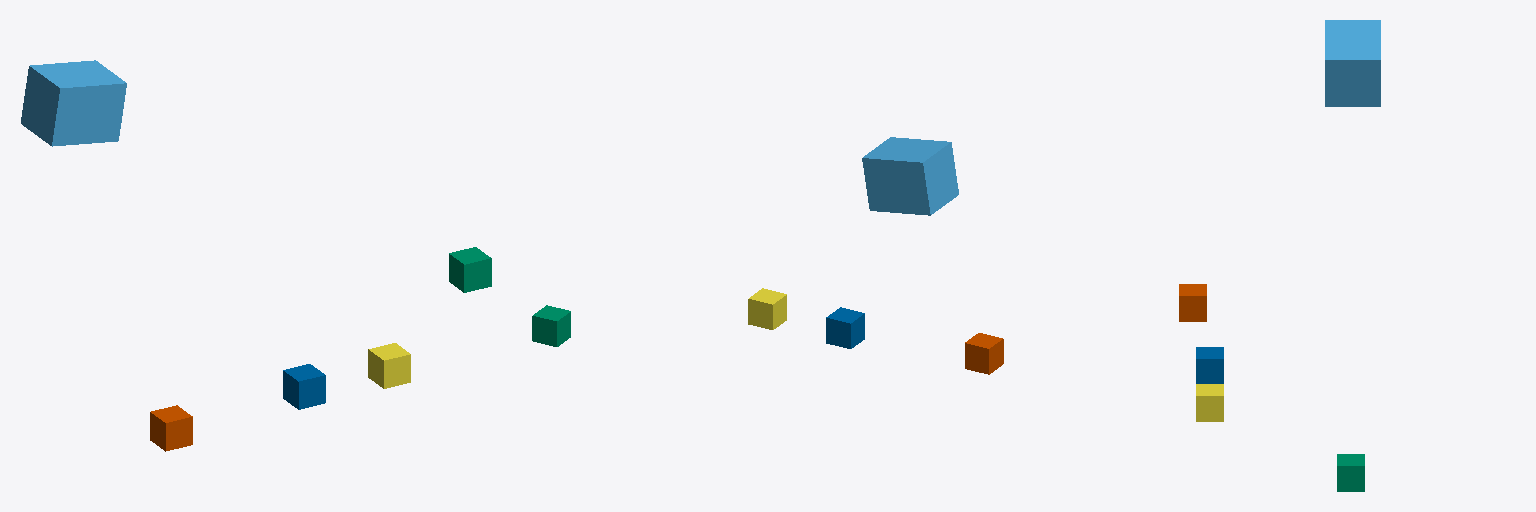
URDF robot description (dr_drift):
<?xml version="1.0" ?>
<robot name="dr_drift" version="1.0.0">
  <link name="chassis">
    <collision>
      <origin xyz="0.12 0 0.0397" rpy="0 0 0"/>
      <geometry>
        <box size="0.24 0.2207 0.0794"/>
      </geometry>
    </collision>
    <visual>
      <origin xyz="0.095 0 0.0497" rpy="0 0 0"/>
      <geometry>
        <mesh filename="file://meshes/dr_drift.stl"/>
      </geometry>
      <material name="mat">
        <color>1.0 1.0 1.0</color>
      </material>
    </visual>
    <inertial>
      <inertia ixx="0.02200514" ixy="0" ixz="0" iyx="0" iyy="0.025561743999999994" iyz="0" izx="0" izy="0" izz="0.042523396"/>
      <origin xyz="0.12 0 0.0397" rpy="0 0 0"/>
      <mass value="4.8"/>
    </inertial>
  </link>
  <link name="front_camera_link">
    <collision>
      <geometry>
        <box size="0.05 0.04 0.04"/>
      </geometry>
    </collision>
    <visual>
      <geometry>
        <box size="0.05 0.04 0.04"/>
      </geometry>
      <material name="mat">
        <color>1.0 1.0 1.0</color>
      </material>
    </visual>
    <inertial>
      <inertia ixx="2.6666666666666667e-07" ixy="0" ixz="0" iyx="0" iyy="3.416666666666667e-07" iyz="0" izx="0" izy="0" izz="3.416666666666667e-07"/>
      <mass value="0.001"/>
    </inertial>
  </link>
  <joint name="front_camera_joint" type="fixed">
    <parent link="chassis"/>
    <child link="front_camera_link"/>
    <origin xyz="-0.006256036655947976 0.0017242800000000001 0.2645206675581313" rpy="0.0 0.15771603452297908 0.0"/>
  </joint>
  <gazebo reference="front_camera_link">
    <sensor name="front_camera" type="camera">
      <plugin name="camera_plugin" filename="libgazebo_ros_camera.so">
        <alwaysOn>1</alwaysOn>
        <updateRate>0</updateRate>
        <frameName>front_camera</frameName>
        <cameraName>front_camera</cameraName>
        <imageTopicName>/simulation/sensors/raw/camera</imageTopicName>
        <cameraInfoTopicName>/simulation/sensors/camera/info</cameraInfoTopicName>
      </plugin>
      <update_rate>60</update_rate>
      <camera>
        <horizontal_fov>2.064911321881509</horizontal_fov>
        <image>
          <width>1280</width>
          <height>1024</height>
          <format>RGB8</format>
        </image>
        <clip>
          <near>0.1</near>
          <far>4</far>
        </clip>
      </camera>
    </sensor>
  </gazebo>
  <link name="ir_ahead_sensor_link">
    <collision>
      <geometry>
        <box size="0.02 0.02 0.02"/>
      </geometry>
    </collision>
    <visual>
      <geometry>
        <box size="0.02 0.02 0.02"/>
      </geometry>
      <material name="mat">
        <color>1.0 1.0 1.0</color>
      </material>
    </visual>
    <inertial>
      <inertia ixx="6.666666666666667e-10" ixy="0" ixz="0" iyx="0" iyy="6.666666666666667e-10" iyz="0" izx="0" izy="0" izz="6.666666666666667e-10"/>
      <mass value="1e-05"/>
    </inertial>
  </link>
  <joint name="ir_ahead_sensor_joint" type="fixed">
    <parent link="chassis"/>
    <child link="ir_ahead_sensor_link"/>
    <origin xyz="0.285 0.0 0.08" rpy="0 0 0"/>
  </joint>
  <gazebo reference="ir_ahead_sensor_link">
    <sensor name="ir_ahead_sensor" type="depth">
      <plugin name="camera_plugin" filename="libgazebo_ros_openni_kinect.so">
        <alwaysOn>1</alwaysOn>
        <updateRate>0</updateRate>
        <frameName>ir_ahead</frameName>
        <cameraName>ir_ahead_sensor</cameraName>
        <depthImageTopicName>/simulation/sensors/raw/distance_ahead</depthImageTopicName>
        <depthImageCameraInfoTopicName>/simulation/sensors/info/distance_ahead</depthImageCameraInfoTopicName>
        <pointCloudTopicName>/simulation/sensors/raw/distance_ahead_points</pointCloudTopicName>
        <pointCloudCutoff>0.005</pointCloudCutoff>
      </plugin>
      <update_rate>20</update_rate>
      <camera>
        <horizontal_fov>0.0349</horizontal_fov>
        <image>
          <width>2</width>
          <height>2</height>
          <format>L8</format>
        </image>
        <clip>
          <near>0.01</near>
          <far>2</far>
        </clip>
      </camera>
    </sensor>
  </gazebo>
  <link name="ir_front_sensor_link">
    <collision>
      <geometry>
        <box size="0.02 0.02 0.02"/>
      </geometry>
    </collision>
    <visual>
      <geometry>
        <box size="0.02 0.02 0.02"/>
      </geometry>
      <material name="mat">
        <color>1.0 1.0 1.0</color>
      </material>
    </visual>
    <inertial>
      <inertia ixx="6.666666666666667e-10" ixy="0" ixz="0" iyx="0" iyy="6.666666666666667e-10" iyz="0" izx="0" izy="0" izz="6.666666666666667e-10"/>
      <mass value="1e-05"/>
    </inertial>
  </link>
  <joint name="ir_front_sensor_joint" type="fixed">
    <parent link="chassis"/>
    <child link="ir_front_sensor_link"/>
    <origin xyz="0.168 -0.1 0.08" rpy="0 0 -1.570796327"/>
  </joint>
  <gazebo reference="ir_front_sensor_link">
    <sensor name="ir_front_sensor" type="depth">
      <plugin name="camera_plugin" filename="libgazebo_ros_openni_kinect.so">
        <alwaysOn>1</alwaysOn>
        <updateRate>0</updateRate>
        <frameName>ir_front</frameName>
        <cameraName>ir_front_sensor</cameraName>
        <depthImageTopicName>/simulation/sensors/raw/distance_front</depthImageTopicName>
        <depthImageCameraInfoTopicName>/simulation/sensors/info/distance_front</depthImageCameraInfoTopicName>
        <pointCloudTopicName>/simulation/sensors/raw/distance_front_points</pointCloudTopicName>
        <pointCloudCutoff>0.005</pointCloudCutoff>
      </plugin>
      <update_rate>20</update_rate>
      <camera>
        <horizontal_fov>0.0349</horizontal_fov>
        <image>
          <width>2</width>
          <height>2</height>
          <format>L8</format>
        </image>
        <clip>
          <near>0.01</near>
          <far>2</far>
        </clip>
      </camera>
    </sensor>
  </gazebo>
  <link name="ir_middle_sensor_link">
    <collision>
      <geometry>
        <box size="0.02 0.02 0.02"/>
      </geometry>
    </collision>
    <visual>
      <geometry>
        <box size="0.02 0.02 0.02"/>
      </geometry>
      <material name="mat">
        <color>1.0 1.0 1.0</color>
      </material>
    </visual>
    <inertial>
      <inertia ixx="6.666666666666667e-10" ixy="0" ixz="0" iyx="0" iyy="6.666666666666667e-10" iyz="0" izx="0" izy="0" izz="6.666666666666667e-10"/>
      <mass value="1e-05"/>
    </inertial>
  </link>
  <joint name="ir_middle_sensor_joint" type="fixed">
    <parent link="chassis"/>
    <child link="ir_middle_sensor_link"/>
    <origin xyz="0.105 -0.1 0.08" rpy="0 0 -1.570796327"/>
  </joint>
  <gazebo reference="ir_middle_sensor_link">
    <sensor name="ir_middle_sensor" type="depth">
      <plugin name="camera_plugin" filename="libgazebo_ros_openni_kinect.so">
        <alwaysOn>1</alwaysOn>
        <updateRate>0</updateRate>
        <frameName>ir_middle</frameName>
        <cameraName>ir_middle_sensor</cameraName>
        <depthImageTopicName>/simulation/sensors/raw/distance_middle</depthImageTopicName>
        <depthImageCameraInfoTopicName>/simulation/sensors/info/distance_middle</depthImageCameraInfoTopicName>
        <pointCloudTopicName>/simulation/sensors/raw/distance_middle_points</pointCloudTopicName>
        <pointCloudCutoff>0.005</pointCloudCutoff>
      </plugin>
      <update_rate>20</update_rate>
      <camera>
        <horizontal_fov>0.0349</horizontal_fov>
        <image>
          <width>2</width>
          <height>2</height>
          <format>L8</format>
        </image>
        <clip>
          <near>0.01</near>
          <far>2</far>
        </clip>
      </camera>
    </sensor>
  </gazebo>
  <link name="ir_back_sensor_link">
    <collision>
      <geometry>
        <box size="0.02 0.02 0.02"/>
      </geometry>
    </collision>
    <visual>
      <geometry>
        <box size="0.02 0.02 0.02"/>
      </geometry>
      <material name="mat">
        <color>1.0 1.0 1.0</color>
      </material>
    </visual>
    <inertial>
      <inertia ixx="6.666666666666667e-10" ixy="0" ixz="0" iyx="0" iyy="6.666666666666667e-10" iyz="0" izx="0" izy="0" izz="6.666666666666667e-10"/>
      <mass value="1e-05"/>
    </inertial>
  </link>
  <joint name="ir_back_sensor_joint" type="fixed">
    <parent link="chassis"/>
    <child link="ir_back_sensor_link"/>
    <origin xyz="0 -0.112 0.08" rpy="0 0 -1.570796327"/>
  </joint>
  <gazebo reference="ir_back_sensor_link">
    <sensor name="ir_back_sensor" type="depth">
      <plugin name="camera_plugin" filename="libgazebo_ros_openni_kinect.so">
        <alwaysOn>1</alwaysOn>
        <updateRate>0</updateRate>
        <frameName>ir_back</frameName>
        <cameraName>ir_back_sensor</cameraName>
        <depthImageTopicName>/simulation/sensors/raw/distance_back</depthImageTopicName>
        <depthImageCameraInfoTopicName>/simulation/sensors/info/distance_back</depthImageCameraInfoTopicName>
        <pointCloudTopicName>/simulation/sensors/raw/distance_back_points</pointCloudTopicName>
        <pointCloudCutoff>0.005</pointCloudCutoff>
      </plugin>
      <update_rate>20</update_rate>
      <camera>
        <horizontal_fov>0.0349</horizontal_fov>
        <image>
          <width>2</width>
          <height>2</height>
          <format>L8</format>
        </image>
        <clip>
          <near>0.01</near>
          <far>2</far>
        </clip>
      </camera>
    </sensor>
  </gazebo>
  <gazebo>
    <plugin name="model_plugin_link" filename="libmodel_plugin_link.so"/>
  </gazebo>
</robot>

--- Facts derived from the render (not from the file) ---
3 views of the same robot in one strip: view 1: azimuth 30°, elevation 25°; view 2: azimuth 150°, elevation 25°; view 3: azimuth 270°, elevation 25° (orthographic).
Robot: dr_drift — 6 links, 5 joints (5 fixed); root link chassis; default pose: all joints at 0.
Visible links, largest first — view 1: front_camera_link, ir_ahead_sensor_link, ir_front_sensor_link, ir_back_sensor_link, ir_middle_sensor_link; view 2: front_camera_link, ir_back_sensor_link, ir_ahead_sensor_link, ir_middle_sensor_link, ir_front_sensor_link; view 3: front_camera_link, ir_ahead_sensor_link, ir_front_sensor_link, ir_back_sensor_link, ir_middle_sensor_link.
Link boxes in pixels (<box>): front_camera_link: <box>21,60,126,146</box>; ir_ahead_sensor_link: <box>449,247,491,292</box>; ir_front_sensor_link: <box>368,343,410,388</box>; ir_back_sensor_link: <box>150,405,192,451</box>; ir_middle_sensor_link: <box>283,364,325,409</box>; front_camera_link: <box>862,137,958,215</box>; ir_back_sensor_link: <box>965,333,1003,374</box>; ir_ahead_sensor_link: <box>532,305,570,346</box>; ir_middle_sensor_link: <box>826,307,864,348</box>; ir_front_sensor_link: <box>748,288,786,329</box>; front_camera_link: <box>1325,20,1380,106</box>; ir_ahead_sensor_link: <box>1337,454,1364,491</box>; ir_front_sensor_link: <box>1196,384,1223,421</box>; ir_back_sensor_link: <box>1179,284,1206,321</box>; ir_middle_sensor_link: <box>1196,347,1223,383</box>.
Bounding box of the posed robot: 0.3291 × 0.1437 × 0.2182 m (x, y, z).
Geometry: only primitive shapes (box / cylinder / sphere) drawn; not drawn: 1 mesh visual (reference in a form the renderer does not follow).
